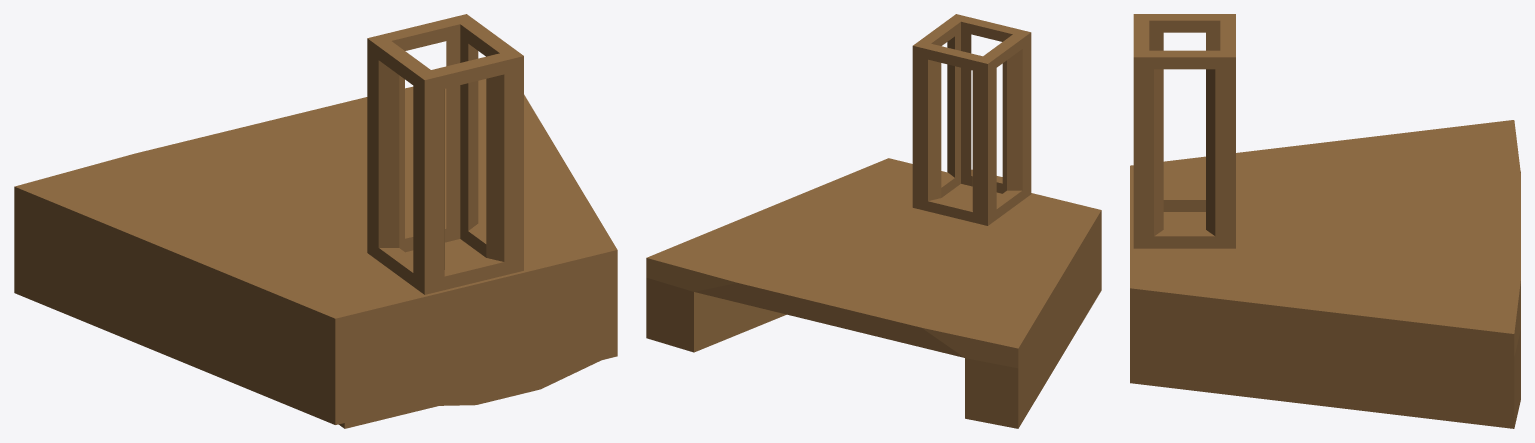
File: stone_slinger_magazine(rapid+1).fbx
3 renders of one model, left to right at view 1: azimuth 30°, elevation 25°; view 2: azimuth 150°, elevation 25°; view 3: azimuth 270°, elevation 25°, orthographic. The views are drawn at different scales.
Parts seen in each view (by area): view 1: magazine_visual(rapid).001; view 2: magazine_visual(rapid).001; view 3: magazine_visual(rapid).001.
Boxes of the visible parts, box(x1,y1,x2,y2) form: magazine_visual(rapid).001: box(14, 14, 617, 428); magazine_visual(rapid).001: box(646, 14, 1101, 428); magazine_visual(rapid).001: box(1130, 14, 1520, 428).
Size of the model in its own units: 99.02 by 64.41 by 76.34.
1 material, 1 textured.
